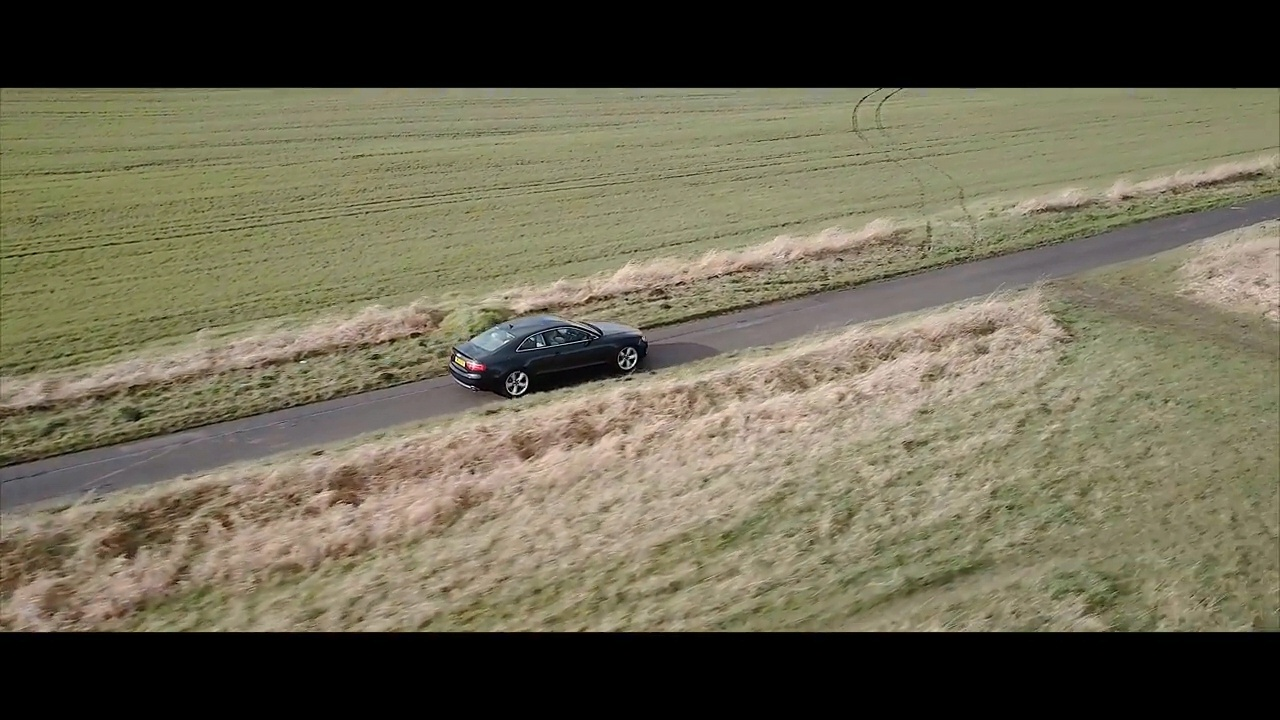araba: (439, 303, 651, 400)
